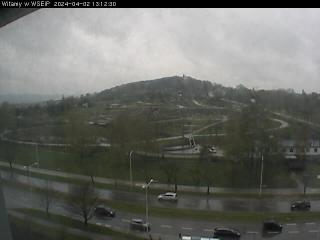car: (212, 226, 242, 239), (129, 217, 152, 232), (94, 204, 116, 218), (261, 219, 283, 233), (157, 191, 179, 203), (291, 199, 311, 212)
